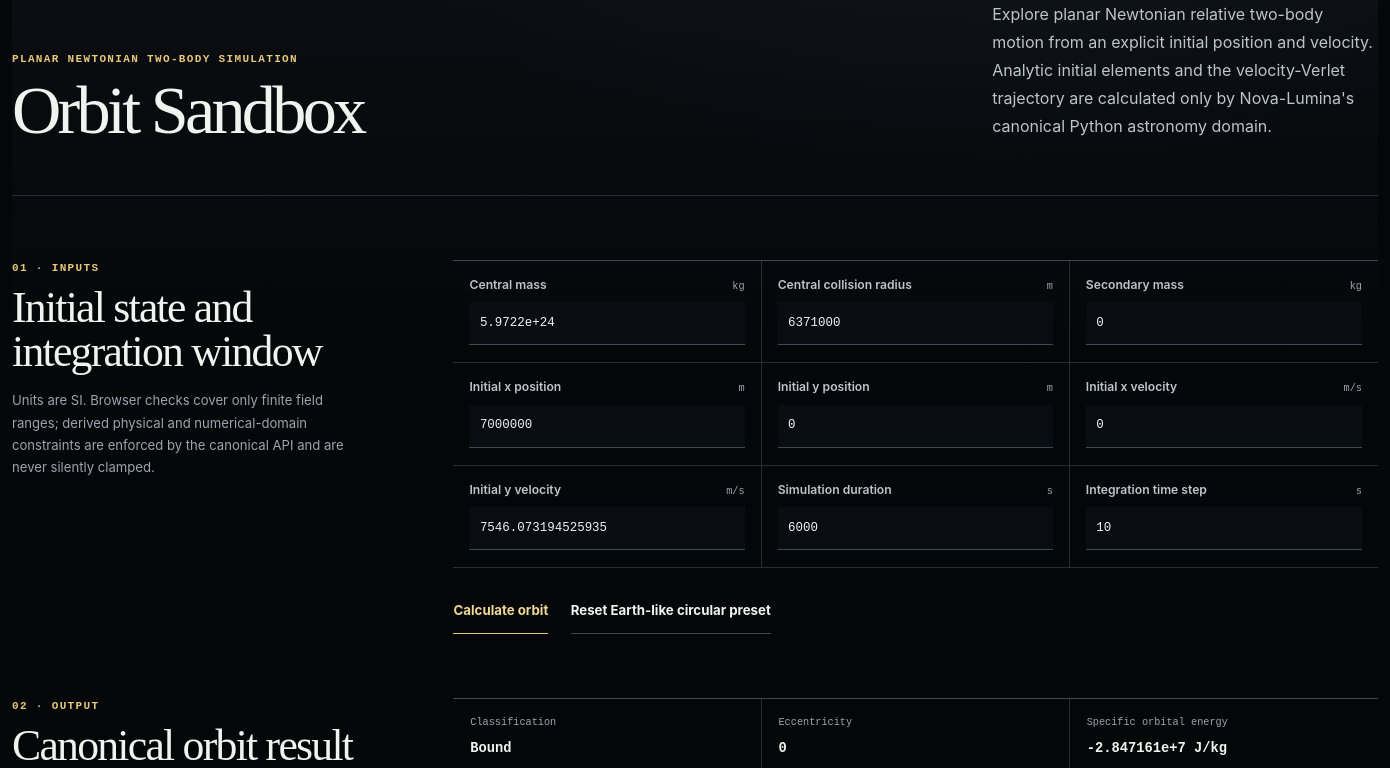
OrbitSandboxView › encodes scientific notation safely and commits only the accepted echoed API state
The width and height of the screenshot is (1390, 768).
Replace the text in the number field labelled "Simulation duration s" with "5000". click: (915, 529)
box: [778,507,1053,550]
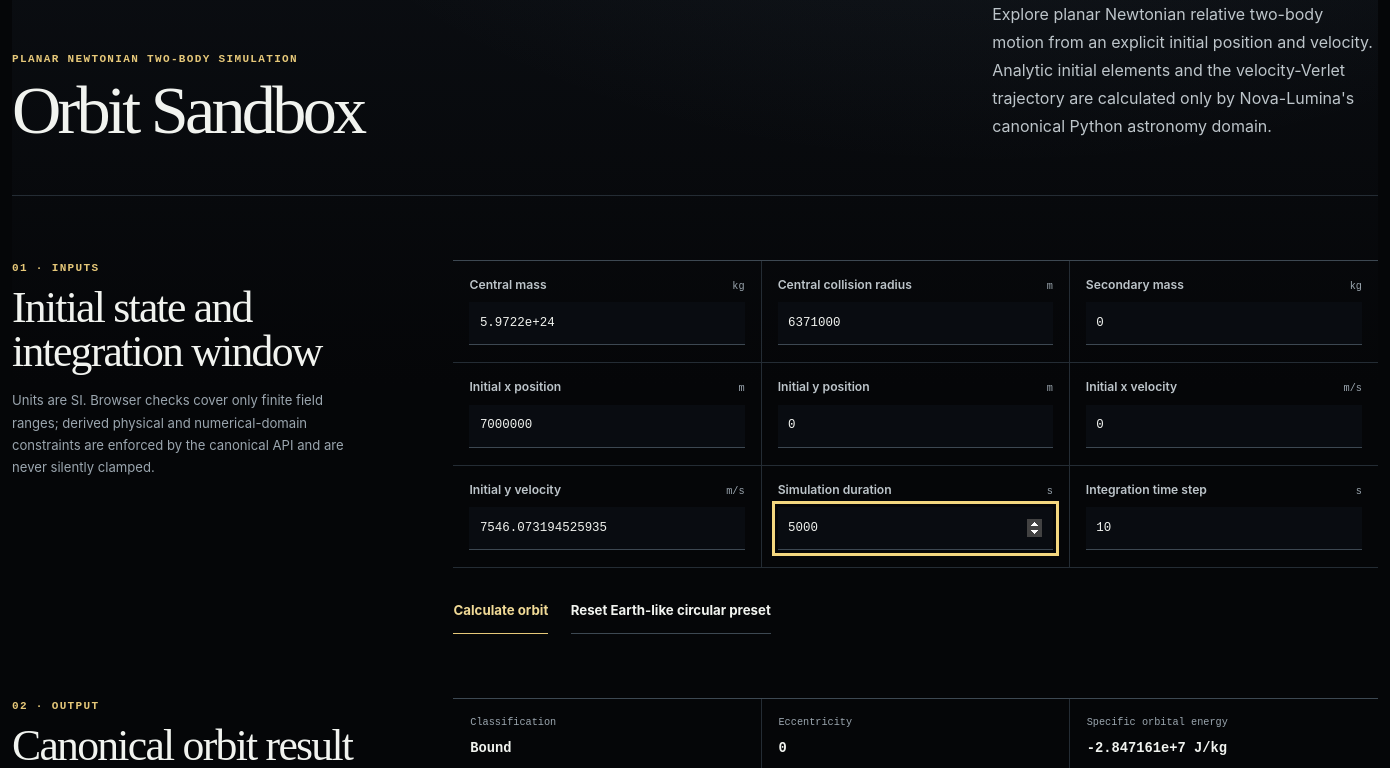
Click the button "Calculate orbit". click: (501, 612)
box: [454,590,548,634]
(page scrolled)
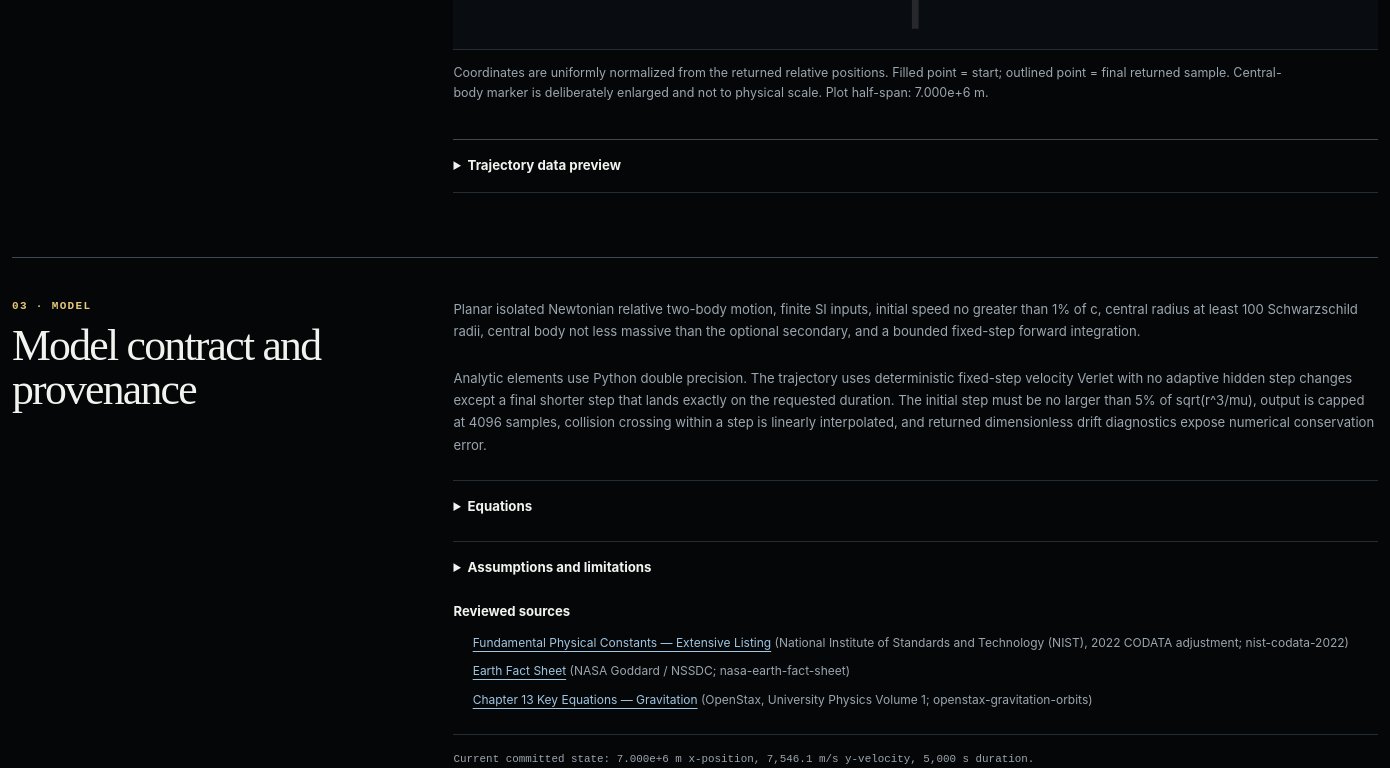
Now the text "5,000 s duration" is shown, box [454,753,1034,765]
